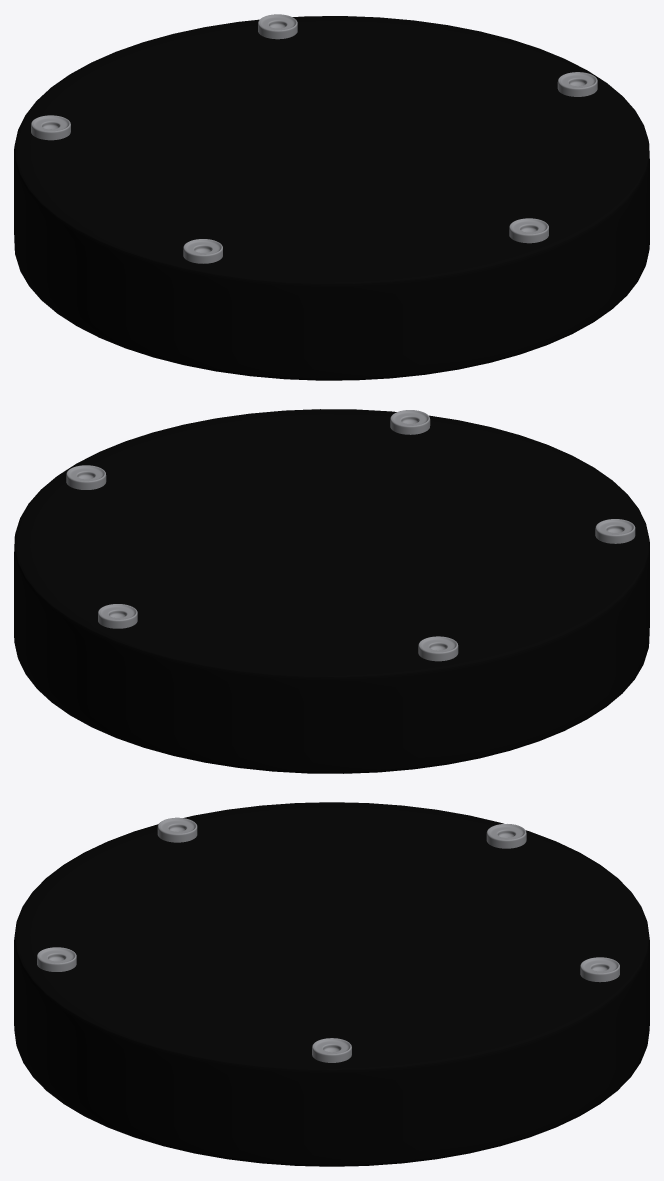
Rendered from Platform.fbx.
3 views of the same model, one above another, from view 1: azimuth 30°, elevation 25°; view 2: azimuth 150°, elevation 25°; view 3: azimuth 270°, elevation 25° (orthographic).
Visible parts, largest first — view 1: Rotating_Light_Platform1; view 2: Rotating_Light_Platform1; view 3: Rotating_Light_Platform1.
Part boxes in pixels (x1,y1,x2,y2): Rotating_Light_Platform1: (14,14,649,380); Rotating_Light_Platform1: (14,409,649,773); Rotating_Light_Platform1: (14,802,649,1166).
Bounding box in the file's own units: 62.13 × 11.74 × 62.13.
